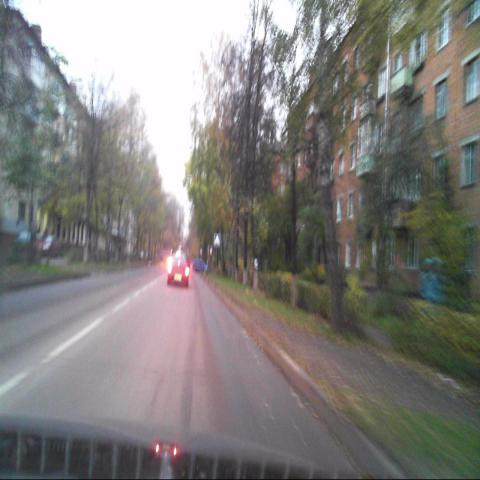5_20: (214, 232, 220, 246)
